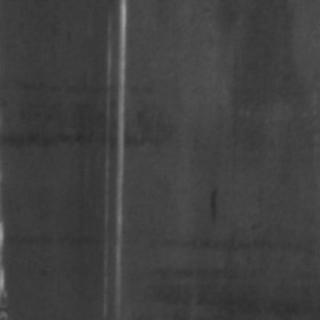scratches: (96, 0, 128, 312)
